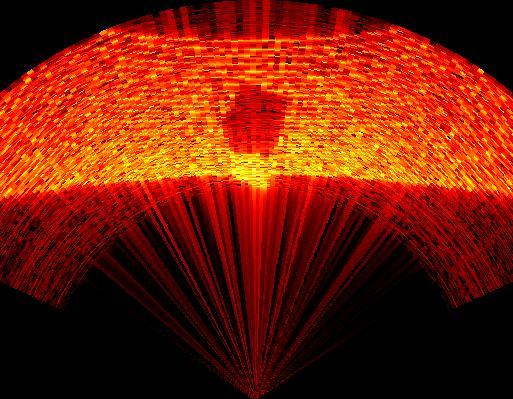box_crate: (220, 84, 288, 153)
